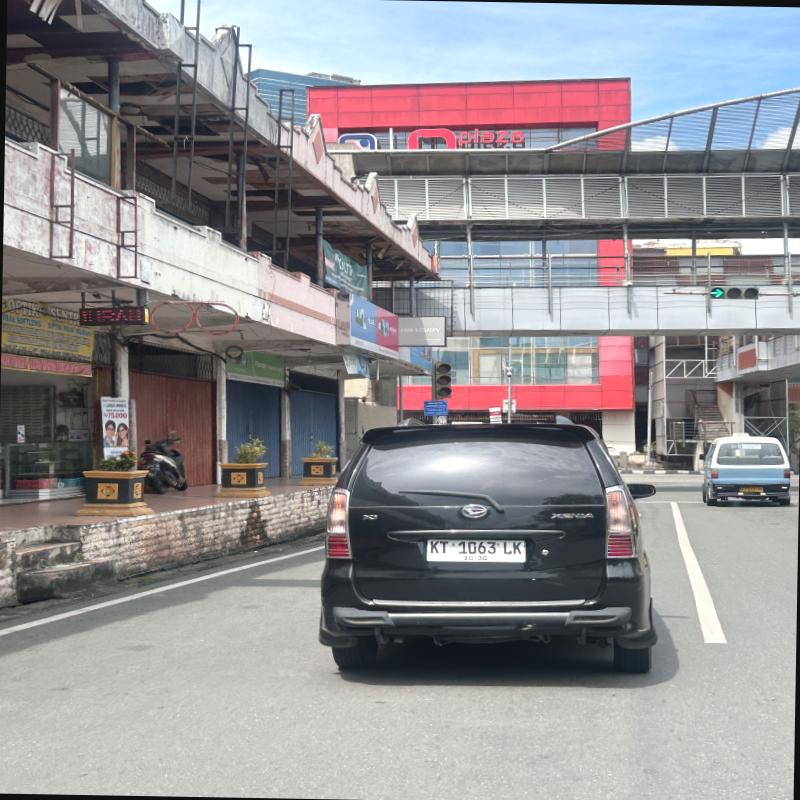license plate on a car: (424, 539, 527, 561), (739, 486, 763, 491)
